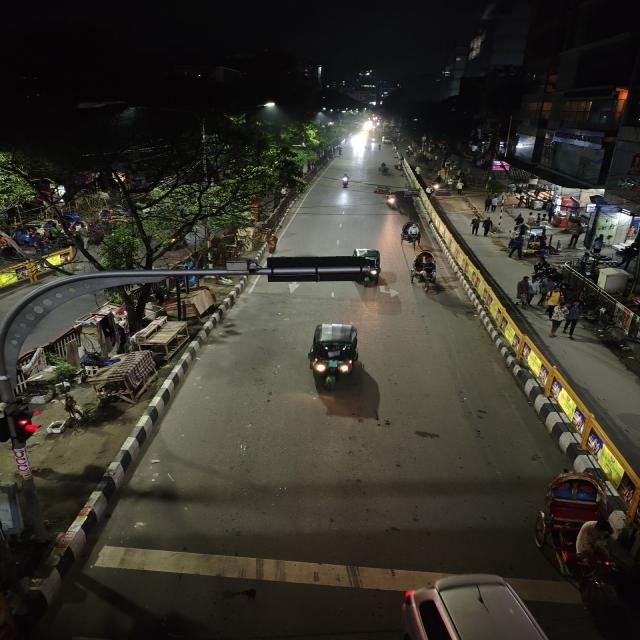car: (391, 568, 548, 640)
cng: (307, 317, 363, 386), (351, 246, 388, 291)
motorcycle: (383, 190, 401, 210), (339, 173, 352, 189)
pedestrian: (566, 300, 582, 340), (472, 212, 493, 240), (551, 301, 566, 338), (516, 274, 529, 306)
rickshaw: (529, 462, 637, 603), (408, 252, 443, 292), (400, 220, 422, 247)
